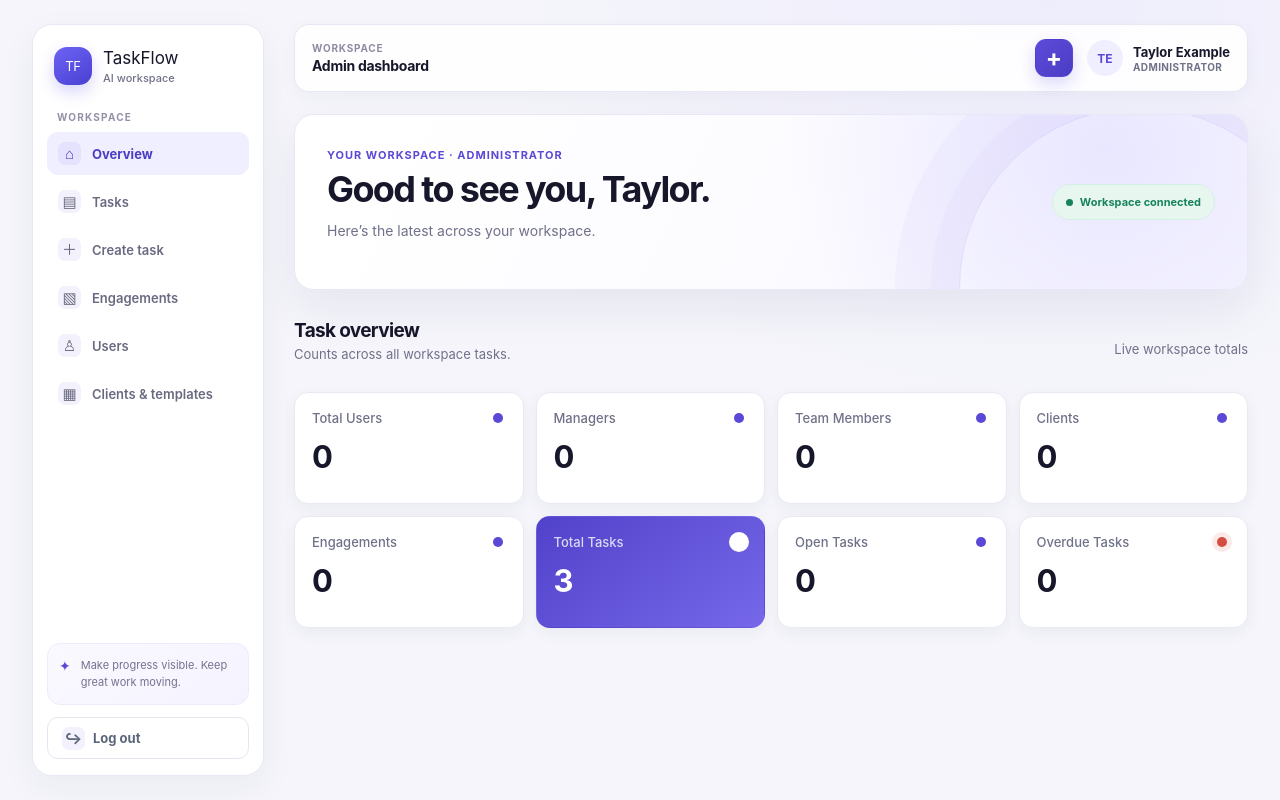
Test: TasksPage role-based workspace › allows an admin to create a Manager with the role fixed by the action
Click the link "♙ Users" at coordinates (93, 346), box x1=58 y1=334 x2=129 y2=357
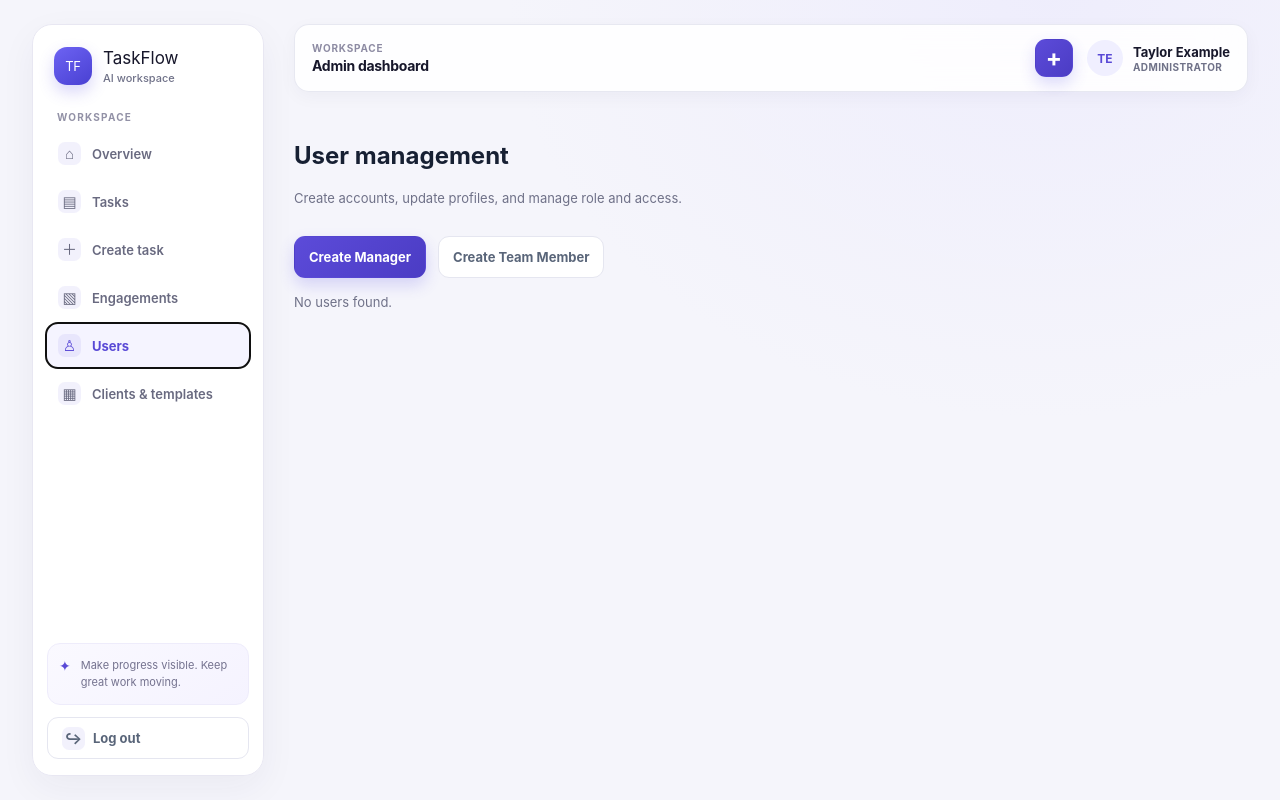
Click the button "Create Manager" at coordinates (360, 257), box x1=294 y1=236 x2=426 y2=278
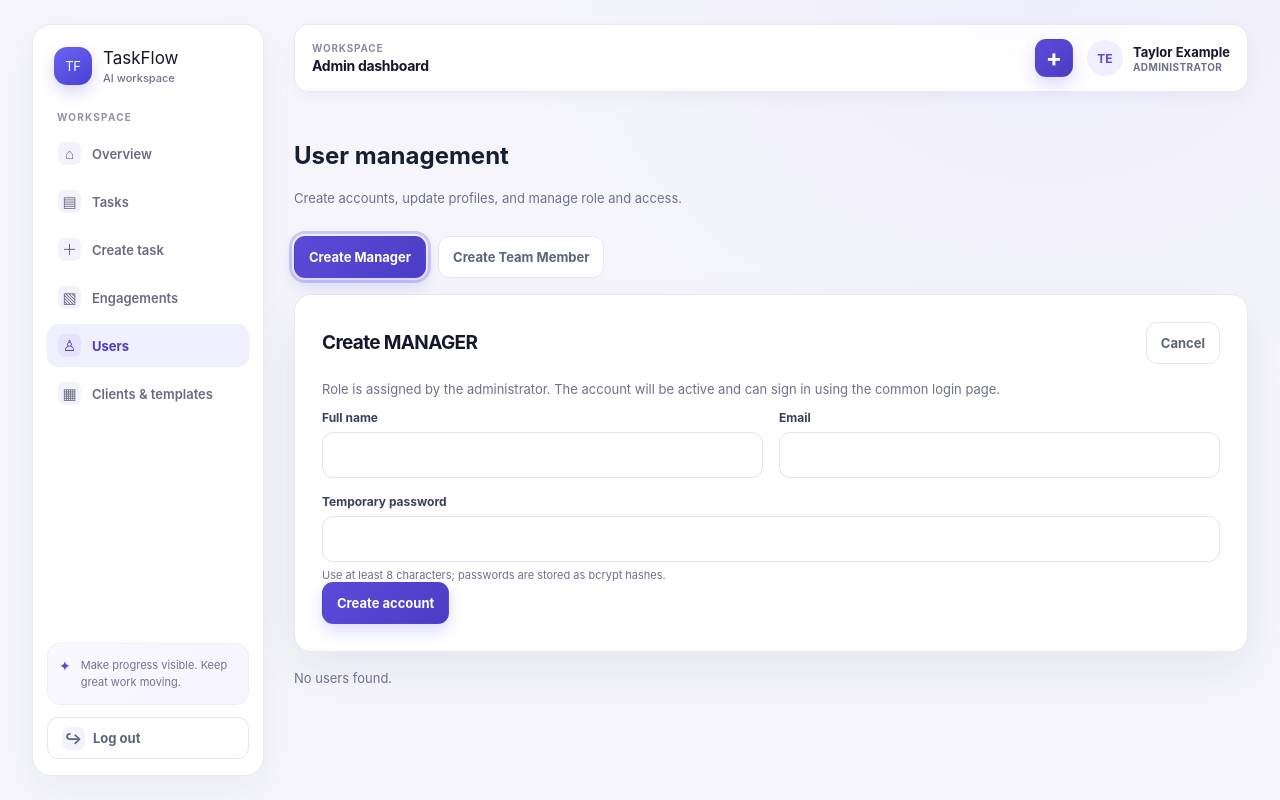
Type "Morgan Manager" into the field labelled "Full name" at coordinates (542, 455), box x1=322 y1=432 x2=763 y2=478
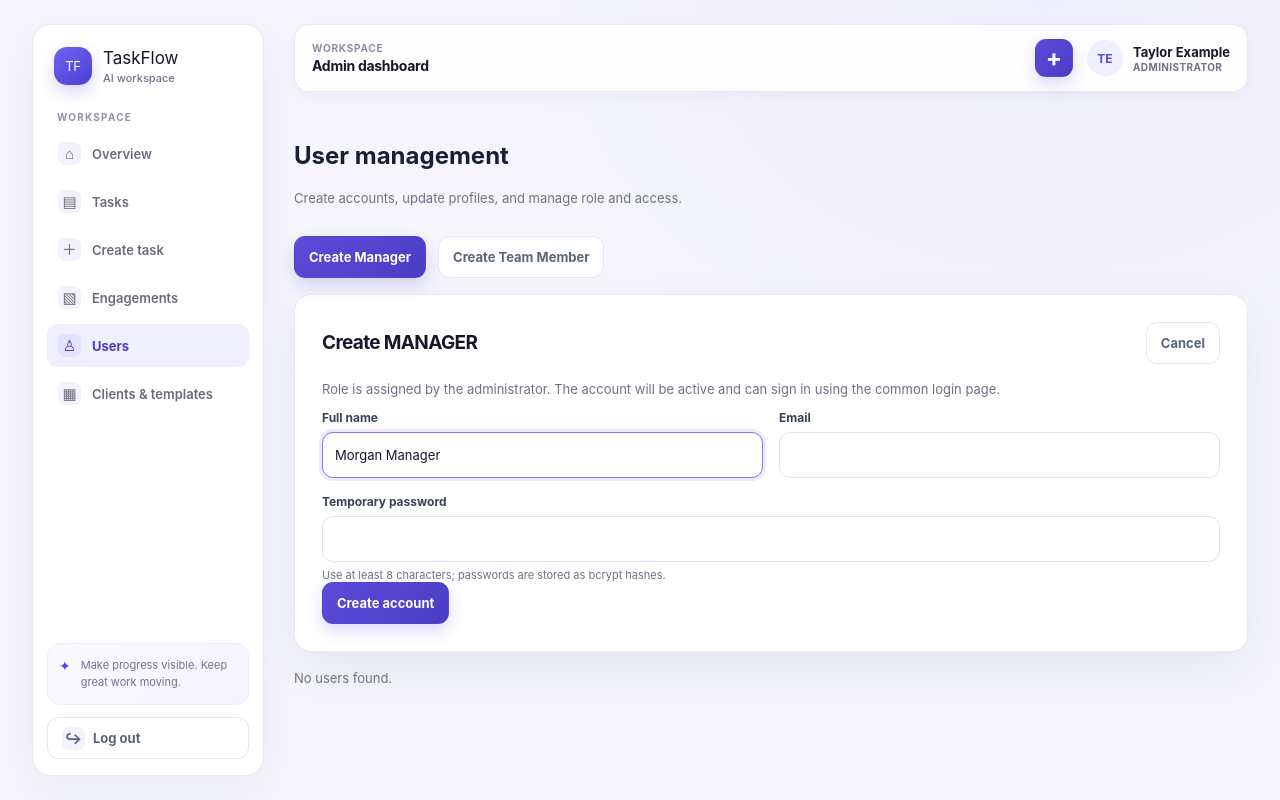
Type "morgan@example.com" into the field labelled "Email" at coordinates (1000, 455), box x1=779 y1=432 x2=1220 y2=478
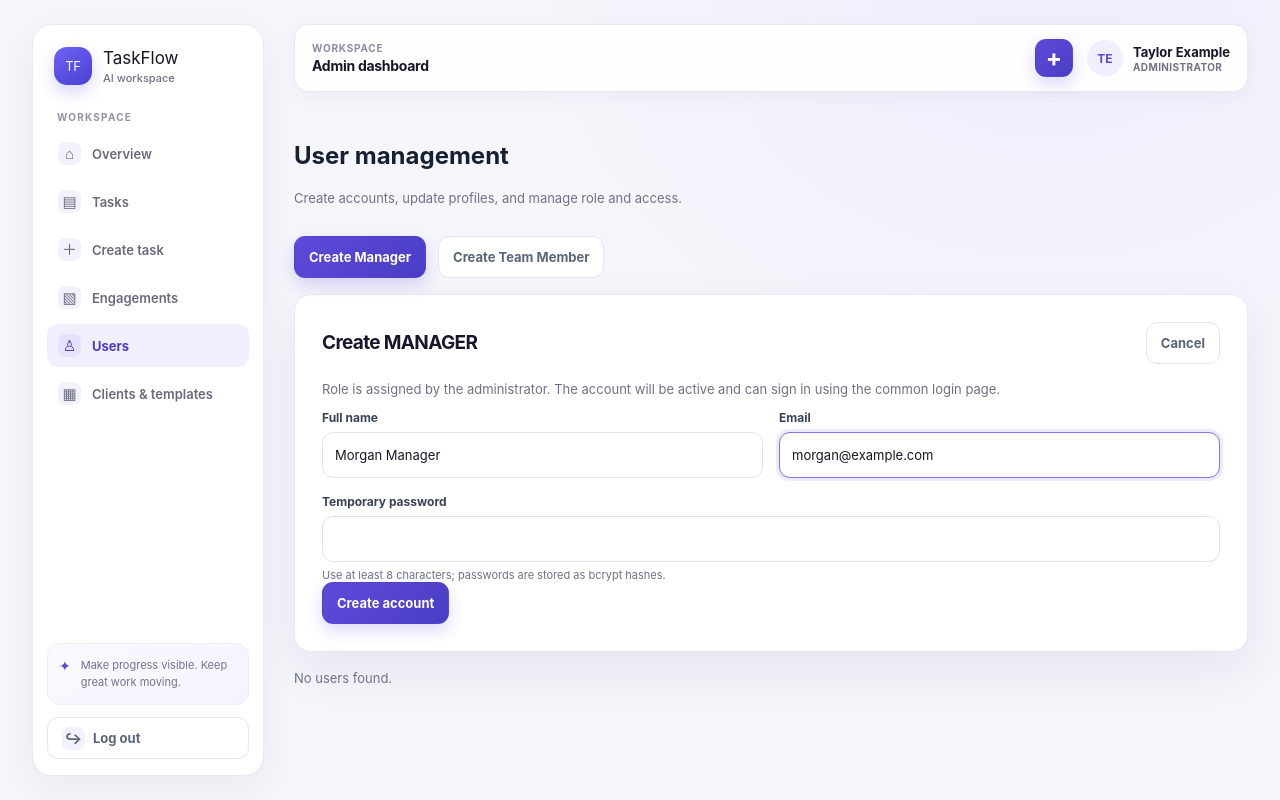
Type "SecurePassword123" into the password field labelled "Temporary password" at coordinates (771, 539), box x1=322 y1=516 x2=1220 y2=562
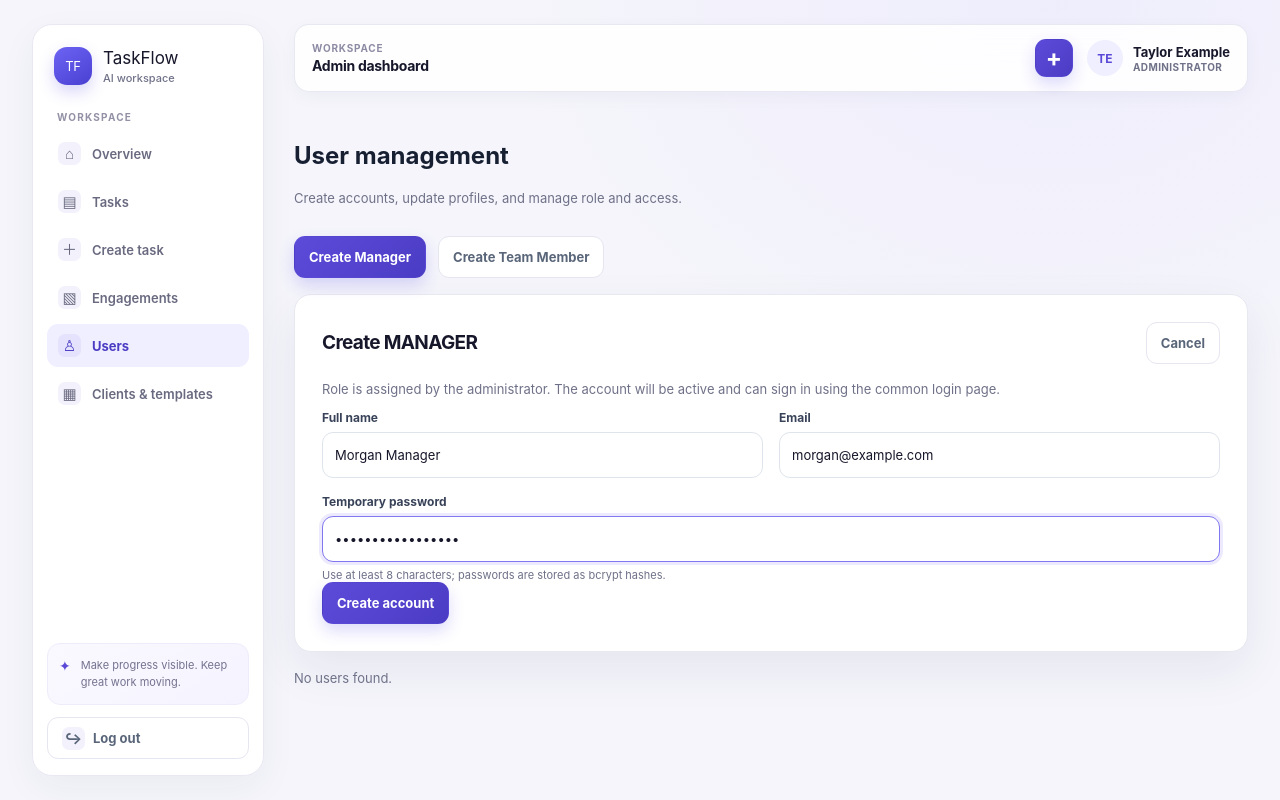
Click the button "Create account" at coordinates (386, 603), box x1=322 y1=582 x2=449 y2=624
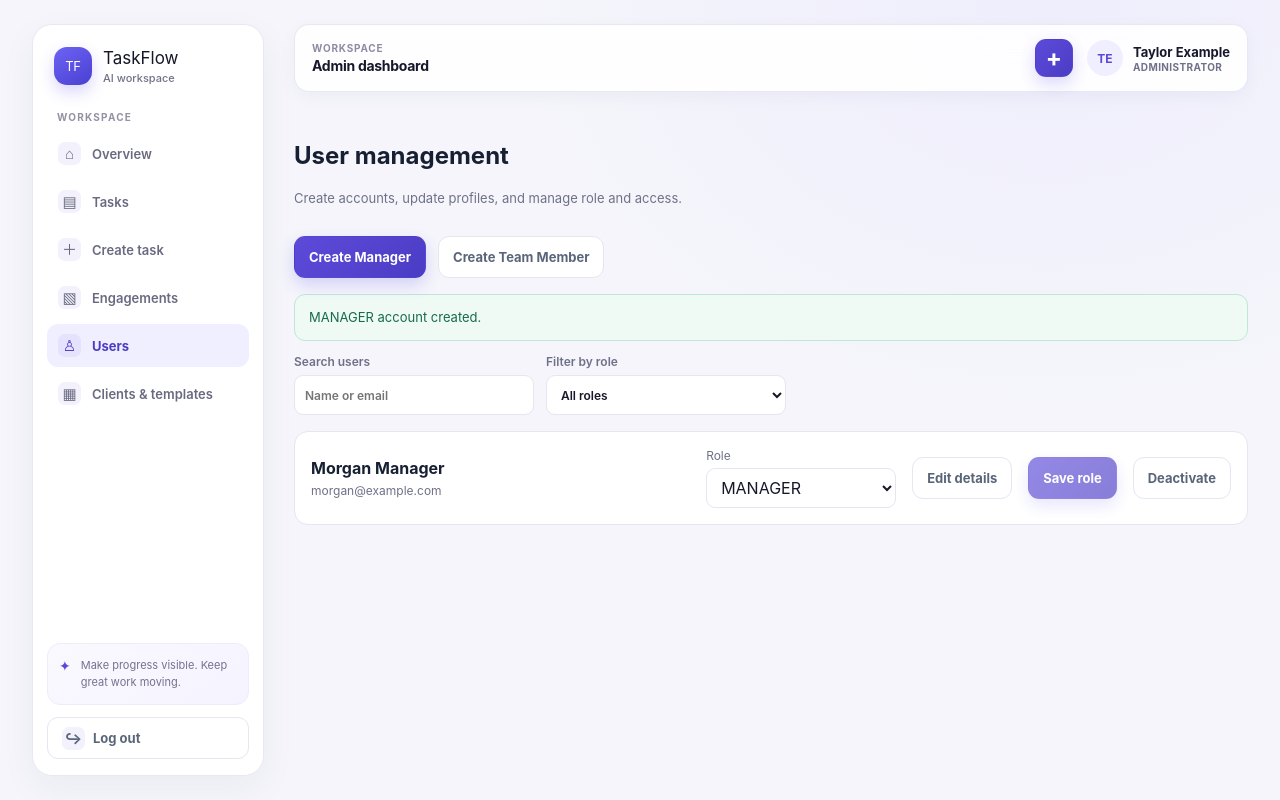
expect the text "Morgan Manager" is shown: met, box x1=311 y1=458 x2=445 y2=478
expect the message reads "MANAGER account created.": met, box x1=309 y1=309 x2=481 y2=325
